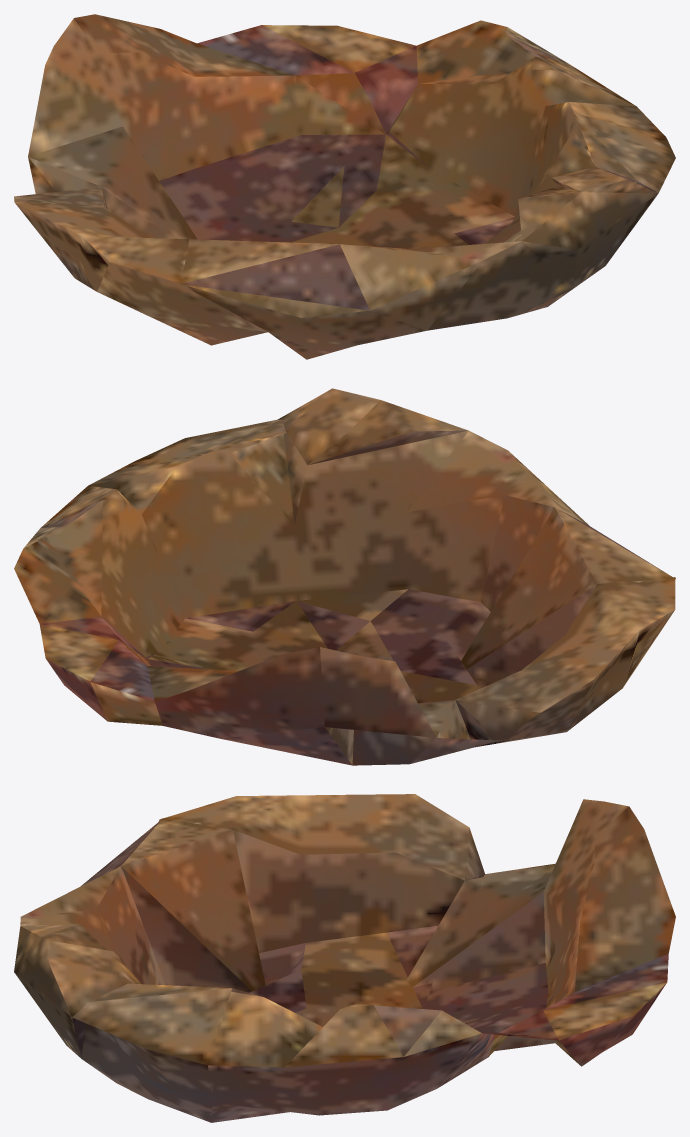
Rendered from wooden_bowl_01.glb.
3 renders of one model, top to bottom at view 1: azimuth 30°, elevation 25°; view 2: azimuth 150°, elevation 25°; view 3: azimuth 270°, elevation 25°, orthographic. The views are drawn at different scales.
Parts seen in each view (by area): view 1: mesh; view 2: mesh; view 3: mesh.
Part boxes in pixels (box(x1,y1,x2,y2)): mesh: box(14, 14, 675, 359); mesh: box(14, 388, 675, 765); mesh: box(14, 794, 675, 1122).
Size of the model in its own units: 0.3051 by 0.0937 by 0.3052.
Materials: 1 (1 with a texture image).
